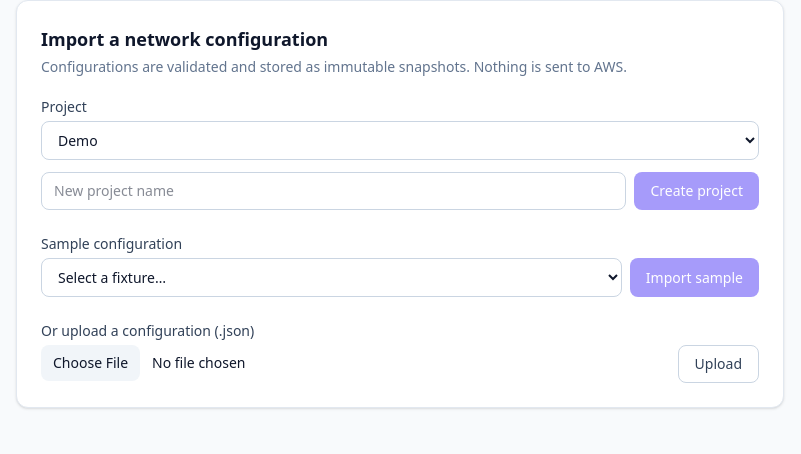
Scenario: ImportPage › asks for a file when Upload is pressed with none selected
The width and height of the screenshot is (801, 454).
Click the button "Upload": (718, 364) top-left (678, 345), bottom-right (759, 383)
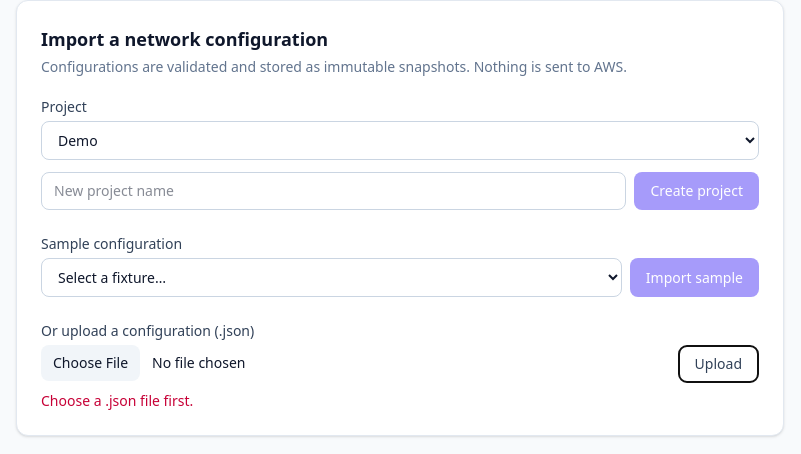
Check: the message reads "Choose a .json file first.", box top-left (41, 391), bottom-right (193, 410)
